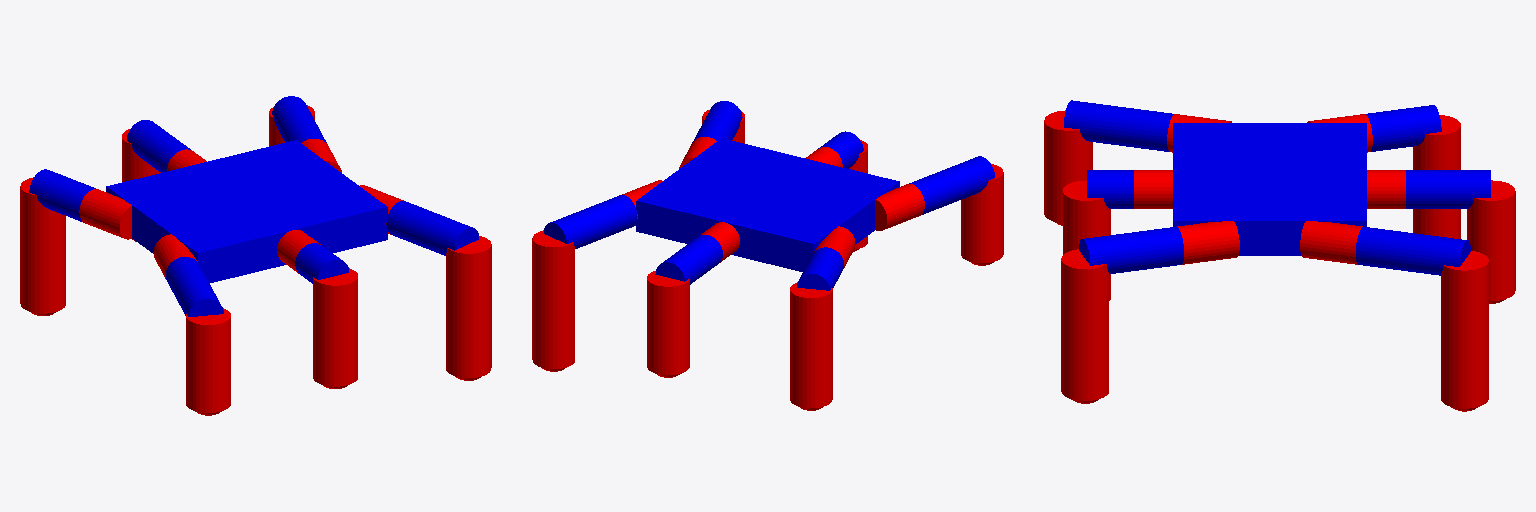
--- Facts derived from the render (not from the file) ---
The picture shows the robot from 3 angles, left to right: view 1: azimuth 30°, elevation 25°; view 2: azimuth 150°, elevation 25°; view 3: azimuth 270°, elevation 25°; orthographic projection.
Model pexod with 19 links and 18 joints (18 revolute), rooted at base_link, posed every joint at zero.
Visible links, largest first — view 1: base_link, leg_3_3, leg_0_3, leg_4_3, leg_5_3, leg_3_2, leg_5_2, leg_0_2, leg_0_1, leg_1_2, leg_2_2, leg_4_2 (+3 smaller); view 2: base_link, leg_2_3, leg_0_3, leg_1_3, leg_5_3, leg_2_2, leg_5_2, leg_1_2, leg_5_1, leg_0_2, leg_3_2, leg_4_2 (+2 smaller); view 3: base_link, leg_2_3, leg_3_3, leg_1_3, leg_2_2, leg_5_2, leg_3_2, leg_5_3, leg_0_3, leg_1_2, leg_0_2, leg_4_3 (+5 smaller).
Link boxes in pixels (<box>): base_link: <box>106,140,387,282</box>; leg_3_3: <box>446,236,491,380</box>; leg_0_3: <box>20,177,65,315</box>; leg_4_3: <box>313,268,357,388</box>; leg_5_3: <box>186,308,230,415</box>; leg_3_2: <box>387,201,478,255</box>; leg_5_2: <box>166,257,223,316</box>; leg_0_2: <box>29,169,95,222</box>; leg_0_1: <box>79,189,131,239</box>; leg_1_2: <box>127,120,190,172</box>; leg_2_2: <box>272,96,326,142</box>; leg_4_2: <box>295,243,348,283</box>; base_link: <box>636,138,899,271</box>; leg_2_3: <box>532,230,574,371</box>; leg_0_3: <box>790,282,832,410</box>; leg_1_3: <box>647,271,689,377</box>; leg_5_3: <box>961,164,1003,265</box>; leg_2_2: <box>544,195,637,248</box>; leg_5_2: <box>909,156,994,214</box>; leg_1_2: <box>655,235,722,284</box>; leg_5_1: <box>875,184,924,230</box>; leg_0_2: <box>797,247,843,290</box>; leg_3_2: <box>692,101,742,142</box>; leg_4_2: <box>818,131,863,168</box>; base_link: <box>1173,123,1366,255</box>; leg_2_3: <box>1441,251,1488,411</box>; leg_3_3: <box>1061,249,1108,403</box>; leg_1_3: <box>1467,180,1515,303</box>; leg_2_2: <box>1356,227,1470,275</box>; leg_5_2: <box>1064,100,1173,151</box>; leg_3_2: <box>1079,227,1183,273</box>; leg_5_3: <box>1044,110,1092,225</box>; leg_0_3: <box>1413,115,1460,238</box>; leg_1_2: <box>1406,170,1490,208</box>; leg_0_2: <box>1366,105,1441,151</box>; leg_4_3: <box>1063,180,1110,300</box>.
Bounding box of the posed robot: 0.3916 × 0.4864 × 0.1898 m (x, y, z).
Geometry: primitives only (box / cylinder / sphere), no mesh files.

URDF robot description (pexod):
<?xml version="1.0" ?>
<!-- =================================================================================== -->
<!-- |    This document was autogenerated by xacro from pexod.xacro                    | -->
<!-- |    EDITING THIS FILE BY HAND IS NOT RECOMMENDED                                 | -->
<!-- =================================================================================== -->
<robot name="pexod" xmlns:xacro="http://www.ros.org/wiki/xacro">
  <!-- <xacro:include filename="$(find pexod_description)/urdf/pexod_control.xacro" /> -->
  <!-- MATERIALS -->
  <material name="Blue">
    <color rgba="0 0 1 1"/>
  </material>
  <material name="Red">
    <color rgba="1 0 0 1"/>
  </material>
  <material name="Green">
    <color rgba="0 1 0 1"/>
  </material>
  <material name="Yellow">
    <color rgba="1 1 0 1"/>
  </material>
  <material name="LightGrey">
    <color rgba="0.6 0.6 0.6 1.0"/>
  </material>
  <!-- END OF MATERIALS -->
  <!-- XACRO MACROS FOR VISUALS AND COLLISIONS -->
  <!-- END OF XACRO MACROS -->
  <!-- TORSO -->
  <link name="base_link">
    <visual>
      <origin rpy="0 0 0" xyz="0 0 0"/>
      <geometry>
        <box size="0.24 0.2 0.04"/>
      </geometry>
      <material name="Blue"/>
    </visual>
    <collision>
      <origin rpy="0 0 0" xyz="0 0 0"/>
      <geometry>
        <box size="0.24 0.2 0.04"/>
      </geometry>
    </collision>
    <inertial>
      <!-- CENTER OF MASS -->
      <origin rpy="0 0 0" xyz="0 0 0"/>
      <mass value="1.031"/>
      <!-- box inertia: 1/12*m(y^2+z^2), ... -->
      <inertia ixx="0.00357413333333" ixy="0" ixz="0" iyy="0.00508626666667" iyz="0" izz="0.00838546666667"/>
    </inertial>
  </link>
  <!-- XACRO MACRO FOR LEGS LINKS/JOINTS -->
  <!-- END OF LEG LINKS/JOINTS -->
  <joint name="body_leg_2" type="revolute">
    <parent link="base_link"/>
    <child link="leg_2_1"/>
    <limit effort="30.0" lower="-1.57079632679" upper="1.57079632679" velocity="7.0"/>
    <origin rpy="0 0 -0.3" xyz="0.11 0.04 0"/>
    <!-- <xacro:if value="${index == 5 or index == 4 or index == 3}">
                <axis xyz="0 0 1"/>
            </xacro:if>
            <xacro:if value="${index == 2 or index == 1 or index == 0}"> -->
    <axis xyz="0 0 1"/>
    <!-- </xacro:if> -->
    <dynamics damping="0.0"/>
  </joint>
  <link name="leg_2_1">
    <visual>
      <origin rpy="1.57079632679 0 0" xyz="0.01 0.03 0"/>
      <geometry>
        <cylinder length="0.06" radius="0.02"/>
      </geometry>
      <material name="Red"/>
    </visual>
    <collision>
      <origin rpy="1.57079632679 0 0" xyz="0.01 0.03 0"/>
      <geometry>
        <box size="0.02 0.02 0.06"/>
      </geometry>
    </collision>
    <inertial>
      <!-- CENTER OF MASS -->
      <origin rpy="1.57079632679 0 0" xyz="0.01 0.03 0"/>
      <mass value="0.02"/>
      <!-- box inertia: 1/12*m(y^2+z^2), ... -->
      <inertia ixx="6.66666666667e-06" ixy="0" ixz="0" iyy="6.66666666667e-06" iyz="0" izz="1.33333333333e-06"/>
    </inertial>
  </link>
  <joint name="leg_2_1_2" type="revolute">
    <parent link="leg_2_1"/>
    <child link="leg_2_2"/>
    <limit effort="30.0" lower="-0.78539816339" upper="0.78539816339" velocity="7.0"/>
    <origin rpy="0 0 0" xyz="0 0.06 0"/>
    <axis xyz="1 0 0"/>
    <dynamics damping="0.0"/>
  </joint>
  <link name="leg_2_2">
    <visual>
      <origin rpy="1.57079632679 0 0" xyz="0.01 0.056233905833 0"/>
      <geometry>
        <cylinder length="0.112467811666" radius="0.02"/>
      </geometry>
      <material name="Blue"/>
    </visual>
    <collision>
      <origin rpy="1.57079632679 0 0" xyz="0.01 0.056233905833 0"/>
      <geometry>
        <box size="0.02 0.02 0.112467811666"/>
      </geometry>
    </collision>
    <inertial>
      <!-- CENTER OF MASS -->
      <origin rpy="1.57079632679 0 0" xyz="0.01 0.056233905833 0"/>
      <mass value="0.184"/>
      <!-- box inertia: 1/12*m(y^2+z^2), ... -->
      <inertia ixx="0.000200084799468" ixy="0" ixz="0" iyy="0.000200084799468" iyz="0" izz="1.22666666667e-05"/>
    </inertial>
  </link>
  <joint name="leg_2_2_3" type="revolute">
    <parent link="leg_2_2"/>
    <child link="leg_2_3"/>
    <limit effort="30.0" lower="-0.78539816339" upper="0.78539816339" velocity="7.0"/>
    <origin rpy="-1.57079632679 0 0" xyz="0 0.112467811666 0"/>
    <axis xyz="-1 0 0"/>
    <dynamics damping="0.0"/>
  </joint>
  <link name="leg_2_3">
    <visual>
      <origin rpy="1.57079632679 0 0" xyz="0.0125 0.078625199054 0"/>
      <geometry>
        <cylinder length="0.157250398108" radius="0.025"/>
      </geometry>
      <material name="Red"/>
    </visual>
    <visual>
      <origin rpy="1.57079632679 0 0" xyz="0.0125 0.144750398108 0"/>
      <geometry>
        <sphere radius="0.025"/>
      </geometry>
      <material name="Red"/>
    </visual>
    <collision>
      <origin rpy="1.57079632679 0 0" xyz="0.0125 0.078625199054 0"/>
      <geometry>
        <box size="0.025 0.025 0.157250398108"/>
      </geometry>
    </collision>
    <collision>
      <origin rpy="1.57079632679 0 0" xyz="0.0125 0.144750398108 0"/>
      <geometry>
        <sphere radius="0.025"/>
      </geometry>
      <material name="Red"/>
    </collision>
    <inertial>
      <!-- CENTER OF MASS -->
      <origin rpy="1.57079632679 0 0" xyz="0.0125 0.078625199054 0"/>
      <mass value="0.04"/>
      <!-- box inertia: 1/12*m(y^2+z^2), ... -->
      <inertia ixx="8.45089590171e-05" ixy="0" ixz="0" iyy="8.45089590171e-05" iyz="0" izz="4.16666666667e-06"/>
    </inertial>
  </link>
  <joint name="body_leg_3" type="revolute">
    <parent link="base_link"/>
    <child link="leg_3_1"/>
    <limit effort="30.0" lower="-1.57079632679" upper="1.57079632679" velocity="7.0"/>
    <origin rpy="0 0 0.3" xyz="0.11 -0.04 0"/>
    <!-- <xacro:if value="${index == 5 or index == 4 or index == 3}">
                <axis xyz="0 0 1"/>
            </xacro:if>
            <xacro:if value="${index == 2 or index == 1 or index == 0}"> -->
    <axis xyz="0 0 1"/>
    <!-- </xacro:if> -->
    <dynamics damping="0.0"/>
  </joint>
  <link name="leg_3_1">
    <visual>
      <origin rpy="1.57079632679 0 0" xyz="0.01 -0.03 0"/>
      <geometry>
        <cylinder length="0.06" radius="0.02"/>
      </geometry>
      <material name="Red"/>
    </visual>
    <collision>
      <origin rpy="1.57079632679 0 0" xyz="0.01 -0.03 0"/>
      <geometry>
        <box size="0.02 0.02 0.06"/>
      </geometry>
    </collision>
    <inertial>
      <!-- CENTER OF MASS -->
      <origin rpy="1.57079632679 0 0" xyz="0.01 -0.03 0"/>
      <mass value="0.02"/>
      <!-- box inertia: 1/12*m(y^2+z^2), ... -->
      <inertia ixx="6.66666666667e-06" ixy="0" ixz="0" iyy="6.66666666667e-06" iyz="0" izz="1.33333333333e-06"/>
    </inertial>
  </link>
  <joint name="leg_3_1_2" type="revolute">
    <parent link="leg_3_1"/>
    <child link="leg_3_2"/>
    <limit effort="30.0" lower="-0.78539816339" upper="0.78539816339" velocity="7.0"/>
    <origin rpy="0 0 0" xyz="0 -0.06 0"/>
    <axis xyz="-1 0 0"/>
    <dynamics damping="0.0"/>
  </joint>
  <link name="leg_3_2">
    <visual>
      <origin rpy="1.57079632679 0 0" xyz="0.01 -0.0507605704915 0"/>
      <geometry>
        <cylinder length="0.101521140983" radius="0.02"/>
      </geometry>
      <material name="Blue"/>
    </visual>
    <collision>
      <origin rpy="1.57079632679 0 0" xyz="0.01 -0.0507605704915 0"/>
      <geometry>
        <box size="0.02 0.02 0.101521140983"/>
      </geometry>
    </collision>
    <inertial>
      <!-- CENTER OF MASS -->
      <origin rpy="1.57079632679 0 0" xyz="0.01 -0.0507605704915 0"/>
      <mass value="0.184"/>
      <!-- box inertia: 1/12*m(y^2+z^2), ... -->
      <inertia ixx="0.000164166978353" ixy="0" ixz="0" iyy="0.000164166978353" iyz="0" izz="1.22666666667e-05"/>
    </inertial>
  </link>
  <joint name="leg_3_2_3" type="revolute">
    <parent link="leg_3_2"/>
    <child link="leg_3_3"/>
    <limit effort="30.0" lower="-0.78539816339" upper="0.78539816339" velocity="7.0"/>
    <origin rpy="1.57079632679 0 0" xyz="0 -0.101521140983 0"/>
    <axis xyz="1 0 0"/>
    <dynamics damping="0.0"/>
  </joint>
  <link name="leg_3_3">
    <visual>
      <origin rpy="1.57079632679 0 0" xyz="0.0125 -0.075042691163 0"/>
      <geometry>
        <cylinder length="0.150085382326" radius="0.025"/>
      </geometry>
      <material name="Red"/>
    </visual>
    <visual>
      <origin rpy="1.57079632679 0 0" xyz="0.0125 -0.137585382326 0"/>
      <geometry>
        <sphere radius="0.025"/>
      </geometry>
      <material name="Red"/>
    </visual>
    <collision>
      <origin rpy="1.57079632679 0 0" xyz="0.0125 -0.075042691163 0"/>
      <geometry>
        <box size="0.025 0.025 0.150085382326"/>
      </geometry>
    </collision>
    <collision>
      <origin rpy="1.57079632679 0 0" xyz="0.0125 -0.137585382326 0"/>
      <geometry>
        <sphere radius="0.025"/>
      </geometry>
      <material name="Red"/>
    </collision>
    <inertial>
      <!-- CENTER OF MASS -->
      <origin rpy="1.57079632679 0 0" xyz="0.0125 -0.075042691163 0"/>
      <mass value="0.04"/>
      <!-- box inertia: 1/12*m(y^2+z^2), ... -->
      <inertia ixx="7.71687399598e-05" ixy="0" ixz="0" iyy="7.71687399598e-05" iyz="0" izz="4.16666666667e-06"/>
    </inertial>
  </link>
  <joint name="body_leg_0" type="revolute">
    <parent link="base_link"/>
    <child link="leg_0_1"/>
    <limit effort="30.0" lower="-1.57079632679" upper="1.57079632679" velocity="7.0"/>
    <origin rpy="0 0 0.3" xyz="-0.13 0.04 0"/>
    <!-- <xacro:if value="${index == 5 or index == 4 or index == 3}">
                <axis xyz="0 0 1"/>
            </xacro:if>
            <xacro:if value="${index == 2 or index == 1 or index == 0}"> -->
    <axis xyz="0 0 1"/>
    <!-- </xacro:if> -->
    <dynamics damping="0.0"/>
  </joint>
  <link name="leg_0_1">
    <visual>
      <origin rpy="1.57079632679 0 0" xyz="0.01 0.03 0"/>
      <geometry>
        <cylinder length="0.06" radius="0.02"/>
      </geometry>
      <material name="Red"/>
    </visual>
    <collision>
      <origin rpy="1.57079632679 0 0" xyz="0.01 0.03 0"/>
      <geometry>
        <box size="0.02 0.02 0.06"/>
      </geometry>
    </collision>
    <inertial>
      <!-- CENTER OF MASS -->
      <origin rpy="1.57079632679 0 0" xyz="0.01 0.03 0"/>
      <mass value="0.02"/>
      <!-- box inertia: 1/12*m(y^2+z^2), ... -->
      <inertia ixx="6.66666666667e-06" ixy="0" ixz="0" iyy="6.66666666667e-06" iyz="0" izz="1.33333333333e-06"/>
    </inertial>
  </link>
  <joint name="leg_0_1_2" type="revolute">
    <parent link="leg_0_1"/>
    <child link="leg_0_2"/>
    <limit effort="30.0" lower="-0.78539816339" upper="0.78539816339" velocity="7.0"/>
    <origin rpy="0 0 0" xyz="0 0.06 0"/>
    <axis xyz="1 0 0"/>
    <dynamics damping="0.0"/>
  </joint>
  <link name="leg_0_2">
    <visual>
      <origin rpy="1.57079632679 0 0" xyz="0.01 0.0372545740683 0"/>
      <geometry>
        <cylinder length="0.0745091481367" radius="0.02"/>
      </geometry>
      <material name="Blue"/>
    </visual>
    <collision>
      <origin rpy="1.57079632679 0 0" xyz="0.01 0.0372545740683 0"/>
      <geometry>
        <box size="0.02 0.02 0.0745091481367"/>
      </geometry>
    </collision>
    <inertial>
      <!-- CENTER OF MASS -->
      <origin rpy="1.57079632679 0 0" xyz="0.01 0.0372545740683 0"/>
      <mass value="0.184"/>
      <!-- box inertia: 1/12*m(y^2+z^2), ... -->
      <inertia ixx="9.12580683929e-05" ixy="0" ixz="0" iyy="9.12580683929e-05" iyz="0" izz="1.22666666667e-05"/>
    </inertial>
  </link>
  <joint name="leg_0_2_3" type="revolute">
    <parent link="leg_0_2"/>
    <child link="leg_0_3"/>
    <limit effort="30.0" lower="-0.78539816339" upper="0.78539816339" velocity="7.0"/>
    <origin rpy="-1.57079632679 0 0" xyz="0 0.0745091481367 0"/>
    <axis xyz="-1 0 0"/>
    <dynamics damping="0.0"/>
  </joint>
  <link name="leg_0_3">
    <visual>
      <origin rpy="1.57079632679 0 0" xyz="0.0125 0.07113749412 0"/>
      <geometry>
        <cylinder length="0.14227498824" radius="0.025"/>
      </geometry>
      <material name="Red"/>
    </visual>
    <visual>
      <origin rpy="1.57079632679 0 0" xyz="0.0125 0.12977498824 0"/>
      <geometry>
        <sphere radius="0.025"/>
      </geometry>
      <material name="Red"/>
    </visual>
    <collision>
      <origin rpy="1.57079632679 0 0" xyz="0.0125 0.07113749412 0"/>
      <geometry>
        <box size="0.025 0.025 0.14227498824"/>
      </geometry>
    </collision>
    <collision>
      <origin rpy="1.57079632679 0 0" xyz="0.0125 0.12977498824 0"/>
      <geometry>
        <sphere radius="0.025"/>
      </geometry>
      <material name="Red"/>
    </collision>
    <inertial>
      <!-- CENTER OF MASS -->
      <origin rpy="1.57079632679 0 0" xyz="0.0125 0.07113749412 0"/>
      <mass value="0.04"/>
      <!-- box inertia: 1/12*m(y^2+z^2), ... -->
      <inertia ixx="6.9557240929e-05" ixy="0" ixz="0" iyy="6.9557240929e-05" iyz="0" izz="4.16666666667e-06"/>
    </inertial>
  </link>
  <joint name="body_leg_5" type="revolute">
    <parent link="base_link"/>
    <child link="leg_5_1"/>
    <limit effort="30.0" lower="-1.57079632679" upper="1.57079632679" velocity="7.0"/>
    <origin rpy="0 0 -0.3" xyz="-0.13 -0.04 0"/>
    <!-- <xacro:if value="${index == 5 or index == 4 or index == 3}">
                <axis xyz="0 0 1"/>
            </xacro:if>
            <xacro:if value="${index == 2 or index == 1 or index == 0}"> -->
    <axis xyz="0 0 1"/>
    <!-- </xacro:if> -->
    <dynamics damping="0.0"/>
  </joint>
  <link name="leg_5_1">
    <visual>
      <origin rpy="1.57079632679 0 0" xyz="0.01 -0.03 0"/>
      <geometry>
        <cylinder length="0.06" radius="0.02"/>
      </geometry>
      <material name="Red"/>
    </visual>
    <collision>
      <origin rpy="1.57079632679 0 0" xyz="0.01 -0.03 0"/>
      <geometry>
        <box size="0.02 0.02 0.06"/>
      </geometry>
    </collision>
    <inertial>
      <!-- CENTER OF MASS -->
      <origin rpy="1.57079632679 0 0" xyz="0.01 -0.03 0"/>
      <mass value="0.02"/>
      <!-- box inertia: 1/12*m(y^2+z^2), ... -->
      <inertia ixx="6.66666666667e-06" ixy="0" ixz="0" iyy="6.66666666667e-06" iyz="0" izz="1.33333333333e-06"/>
    </inertial>
  </link>
  <joint name="leg_5_1_2" type="revolute">
    <parent link="leg_5_1"/>
    <child link="leg_5_2"/>
    <limit effort="30.0" lower="-0.78539816339" upper="0.78539816339" velocity="7.0"/>
    <origin rpy="0 0 0" xyz="0 -0.06 0"/>
    <axis xyz="-1 0 0"/>
    <dynamics damping="0.0"/>
  </joint>
  <link name="leg_5_2">
    <visual>
      <origin rpy="1.57079632679 0 0" xyz="0.01 -0.055964586033 0"/>
      <geometry>
        <cylinder length="0.111929172066" radius="0.02"/>
      </geometry>
      <material name="Blue"/>
    </visual>
    <collision>
      <origin rpy="1.57079632679 0 0" xyz="0.01 -0.055964586033 0"/>
      <geometry>
        <box size="0.02 0.02 0.111929172066"/>
      </geometry>
    </collision>
    <inertial>
      <!-- CENTER OF MASS -->
      <origin rpy="1.57079632679 0 0" xyz="0.01 -0.055964586033 0"/>
      <mass value="0.184"/>
      <!-- box inertia: 1/12*m(y^2+z^2), ... -->
      <inertia ixx="0.000198231473244" ixy="0" ixz="0" iyy="0.000198231473244" iyz="0" izz="1.22666666667e-05"/>
    </inertial>
  </link>
  <joint name="leg_5_2_3" type="revolute">
    <parent link="leg_5_2"/>
    <child link="leg_5_3"/>
    <limit effort="30.0" lower="-0.78539816339" upper="0.78539816339" velocity="7.0"/>
    <origin rpy="1.57079632679 0 0" xyz="0 -0.111929172066 0"/>
    <axis xyz="1 0 0"/>
    <dynamics damping="0.0"/>
  </joint>
  <link name="leg_5_3">
    <visual>
      <origin rpy="1.57079632679 0 0" xyz="0.0125 -0.0530367190395 0"/>
      <geometry>
        <cylinder length="0.106073438079" radius="0.025"/>
      </geometry>
      <material name="Red"/>
    </visual>
    <visual>
      <origin rpy="1.57079632679 0 0" xyz="0.0125 -0.093573438079 0"/>
      <geometry>
        <sphere radius="0.025"/>
      </geometry>
      <material name="Red"/>
    </visual>
    <collision>
      <origin rpy="1.57079632679 0 0" xyz="0.0125 -0.0530367190395 0"/>
      <geometry>
        <box size="0.025 0.025 0.106073438079"/>
      </geometry>
    </collision>
    <collision>
      <origin rpy="1.57079632679 0 0" xyz="0.0125 -0.093573438079 0"/>
      <geometry>
        <sphere radius="0.025"/>
      </geometry>
      <material name="Red"/>
    </collision>
    <inertial>
      <!-- CENTER OF MASS -->
      <origin rpy="1.57079632679 0 0" xyz="0.0125 -0.0530367190395 0"/>
      <mass value="0.04"/>
      <!-- box inertia: 1/12*m(y^2+z^2), ... -->
      <inertia ixx="3.95885808863e-05" ixy="0" ixz="0" iyy="3.95885808863e-05" iyz="0" izz="4.16666666667e-06"/>
    </inertial>
  </link>
  <joint name="body_leg_1" type="revolute">
    <parent link="base_link"/>
    <child link="leg_1_1"/>
    <limit effort="30.0" lower="-1.57079632679" upper="1.57079632679" velocity="7.0"/>
    <origin rpy="0 0 0" xyz="-0.01 0.08 0"/>
    <!-- <xacro:if value="${index == 5 or index == 4 or index == 3}">
                <axis xyz="0 0 1"/>
            </xacro:if>
            <xacro:if value="${index == 2 or index == 1 or index == 0}"> -->
    <axis xyz="0 0 1"/>
    <!-- </xacro:if> -->
    <dynamics damping="0.0"/>
  </joint>
  <link name="leg_1_1">
    <visual>
      <origin rpy="1.57079632679 0 0" xyz="0.01 0.03 0"/>
      <geometry>
        <cylinder length="0.06" radius="0.02"/>
      </geometry>
      <material name="Red"/>
    </visual>
    <collision>
      <origin rpy="1.57079632679 0 0" xyz="0.01 0.03 0"/>
      <geometry>
        <box size="0.02 0.02 0.06"/>
      </geometry>
    </collision>
    <inertial>
      <!-- CENTER OF MASS -->
      <origin rpy="1.57079632679 0 0" xyz="0.01 0.03 0"/>
      <mass value="0.02"/>
      <!-- box inertia: 1/12*m(y^2+z^2), ... -->
      <inertia ixx="6.66666666667e-06" ixy="0" ixz="0" iyy="6.66666666667e-06" iyz="0" izz="1.33333333333e-06"/>
    </inertial>
  </link>
  <joint name="leg_1_1_2" type="revolute">
    <parent link="leg_1_1"/>
    <child link="leg_1_2"/>
    <limit effort="30.0" lower="-0.78539816339" upper="0.78539816339" velocity="7.0"/>
    <origin rpy="0 0 0" xyz="0 0.06 0"/>
    <axis xyz="1 0 0"/>
    <dynamics damping="0.0"/>
  </joint>
  <link name="leg_1_2">
    <visual>
      <origin rpy="1.57079632679 0 0" xyz="0.01 0.04427891751 0"/>
      <geometry>
        <cylinder length="0.08855783502" radius="0.02"/>
      </geometry>
      <material name="Blue"/>
    </visual>
    <collision>
      <origin rpy="1.57079632679 0 0" xyz="0.01 0.04427891751 0"/>
      <geometry>
        <box size="0.02 0.02 0.08855783502"/>
      </geometry>
    </collision>
    <inertial>
      <!-- CENTER OF MASS -->
      <origin rpy="1.57079632679 0 0" xyz="0.01 0.04427891751 0"/>
      <mass value="0.184"/>
      <!-- box inertia: 1/12*m(y^2+z^2), ... -->
      <inertia ixx="0.000126384848866" ixy="0" ixz="0" iyy="0.000126384848866" iyz="0" izz="1.22666666667e-05"/>
    </inertial>
  </link>
  <joint name="leg_1_2_3" type="revolute">
    <parent link="leg_1_2"/>
    <child link="leg_1_3"/>
    <limit effort="30.0" lower="-0.78539816339" upper="0.78539816339" velocity="7.0"/>
    <origin rpy="-1.57079632679 0 0" xyz="0 0.08855783502 0"/>
    <axis xyz="-1 0 0"/>
    <dynamics damping="0.0"/>
  </joint>
  <link name="leg_1_3">
    <visual>
      <origin rpy="1.57079632679 0 0" xyz="0.0125 0.0571156172815 0"/>
      <geometry>
        <cylinder length="0.114231234563" radius="0.025"/>
      </geometry>
      <material name="Red"/>
    </visual>
    <visual>
      <origin rpy="1.57079632679 0 0" xyz="0.0125 0.101731234563 0"/>
      <geometry>
        <sphere radius="0.025"/>
      </geometry>
      <material name="Red"/>
    </visual>
    <collision>
      <origin rpy="1.57079632679 0 0" xyz="0.0125 0.0571156172815 0"/>
      <geometry>
        <box size="0.025 0.025 0.114231234563"/>
      </geometry>
    </collision>
    <collision>
      <origin rpy="1.57079632679 0 0" xyz="0.0125 0.101731234563 0"/>
      <geometry>
        <sphere radius="0.025"/>
      </geometry>
      <material name="Red"/>
    </collision>
    <inertial>
      <!-- CENTER OF MASS -->
      <origin rpy="1.57079632679 0 0" xyz="0.0125 0.0571156172815 0"/>
      <mass value="0.04"/>
      <!-- box inertia: 1/12*m(y^2+z^2), ... -->
      <inertia ixx="4.55792498326e-05" ixy="0" ixz="0" iyy="4.55792498326e-05" iyz="0" izz="4.16666666667e-06"/>
    </inertial>
  </link>
  <joint name="body_leg_4" type="revolute">
    <parent link="base_link"/>
    <child link="leg_4_1"/>
    <limit effort="30.0" lower="-1.57079632679" upper="1.57079632679" velocity="7.0"/>
    <origin rpy="0 0 0" xyz="-0.01 -0.08 0"/>
    <!-- <xacro:if value="${index == 5 or index == 4 or index == 3}">
                <axis xyz="0 0 1"/>
            </xacro:if>
            <xacro:if value="${index == 2 or index == 1 or index == 0}"> -->
    <axis xyz="0 0 1"/>
    <!-- </xacro:if> -->
    <dynamics damping="0.0"/>
  </joint>
  <link name="leg_4_1">
    <visual>
      <origin rpy="1.57079632679 0 0" xyz="0.01 -0.03 0"/>
      <geometry>
        <cylinder length="0.06" radius="0.02"/>
      </geometry>
      <material name="Red"/>
    </visual>
    <collision>
      <origin rpy="1.57079632679 0 0" xyz="0.01 -0.03 0"/>
      <geometry>
        <box size="0.02 0.02 0.06"/>
      </geometry>
    </collision>
    <inertial>
      <!-- CENTER OF MASS -->
      <origin rpy="1.57079632679 0 0" xyz="0.01 -0.03 0"/>
      <mass value="0.02"/>
      <!-- box inertia: 1/12*m(y^2+z^2), ... -->
      <inertia ixx="6.66666666667e-06" ixy="0" ixz="0" iyy="6.66666666667e-06" iyz="0" izz="1.33333333333e-06"/>
    </inertial>
  </link>
  <joint name="leg_4_1_2" type="revolute">
    <parent link="leg_4_1"/>
    <child link="leg_4_2"/>
    <limit effort="30.0" lower="-0.78539816339" upper="0.78539816339" velocity="7.0"/>
    <origin rpy="0 0 0" xyz="0 -0.06 0"/>
    <axis xyz="-1 0 0"/>
    <dynamics damping="0.0"/>
  </joint>
  <link name="leg_4_2">
    <visual>
      <origin rpy="1.57079632679 0 0" xyz="0.01 -0.0245768823132 0"/>
      <geometry>
        <cylinder length="0.0491537646263" radius="0.02"/>
      </geometry>
      <material name="Blue"/>
    </visual>
    <collision>
      <origin rpy="1.57079632679 0 0" xyz="0.01 -0.0245768823132 0"/>
      <geometry>
        <box size="0.02 0.02 0.0491537646263"/>
      </geometry>
    </collision>
    <inertial>
      <!-- CENTER OF MASS -->
      <origin rpy="1.57079632679 0 0" xyz="0.01 -0.0245768823132 0"/>
      <mass value="0.184"/>
      <!-- box inertia: 1/12*m(y^2+z^2), ... -->
      <inertia ixx="4.31800861797e-05" ixy="0" ixz="0" iyy="4.31800861797e-05" iyz="0" izz="1.22666666667e-05"/>
    </inertial>
  </link>
  <joint name="leg_4_2_3" type="revolute">
    <parent link="leg_4_2"/>
    <child link="leg_4_3"/>
    <limit effort="30.0" lower="-0.78539816339" upper="0.78539816339" velocity="7.0"/>
    <origin rpy="1.57079632679 0 0" xyz="0 -0.0491537646263 0"/>
    <axis xyz="1 0 0"/>
    <dynamics damping="0.0"/>
  </joint>
  <link name="leg_4_3">
    <visual>
      <origin rpy="1.57079632679 0 0" xyz="0.0125 -0.0608956635855 0"/>
      <geometry>
        <cylinder length="0.121791327171" radius="0.025"/>
      </geometry>
      <material name="Red"/>
    </visual>
    <visual>
      <origin rpy="1.57079632679 0 0" xyz="0.0125 -0.109291327171 0"/>
      <geometry>
        <sphere radius="0.025"/>
      </geometry>
      <material name="Red"/>
    </visual>
    <collision>
      <origin rpy="1.57079632679 0 0" xyz="0.0125 -0.0608956635855 0"/>
      <geometry>
        <box size="0.025 0.025 0.121791327171"/>
      </geometry>
    </collision>
    <collision>
      <origin rpy="1.57079632679 0 0" xyz="0.0125 -0.109291327171 0"/>
      <geometry>
        <sphere radius="0.025"/>
      </geometry>
      <material name="Red"/>
    </collision>
    <inertial>
      <!-- CENTER OF MASS -->
      <origin rpy="1.57079632679 0 0" xyz="0.0125 -0.0608956635855 0"/>
      <mass value="0.04"/>
      <!-- box inertia: 1/12*m(y^2+z^2), ... -->
      <inertia ixx="5.15270912469e-05" ixy="0" ixz="0" iyy="5.15270912469e-05" iyz="0" izz="4.16666666667e-06"/>
    </inertial>
  </link>
  <!-- END OF LEG LINKS/JOINTS -->
</robot>
